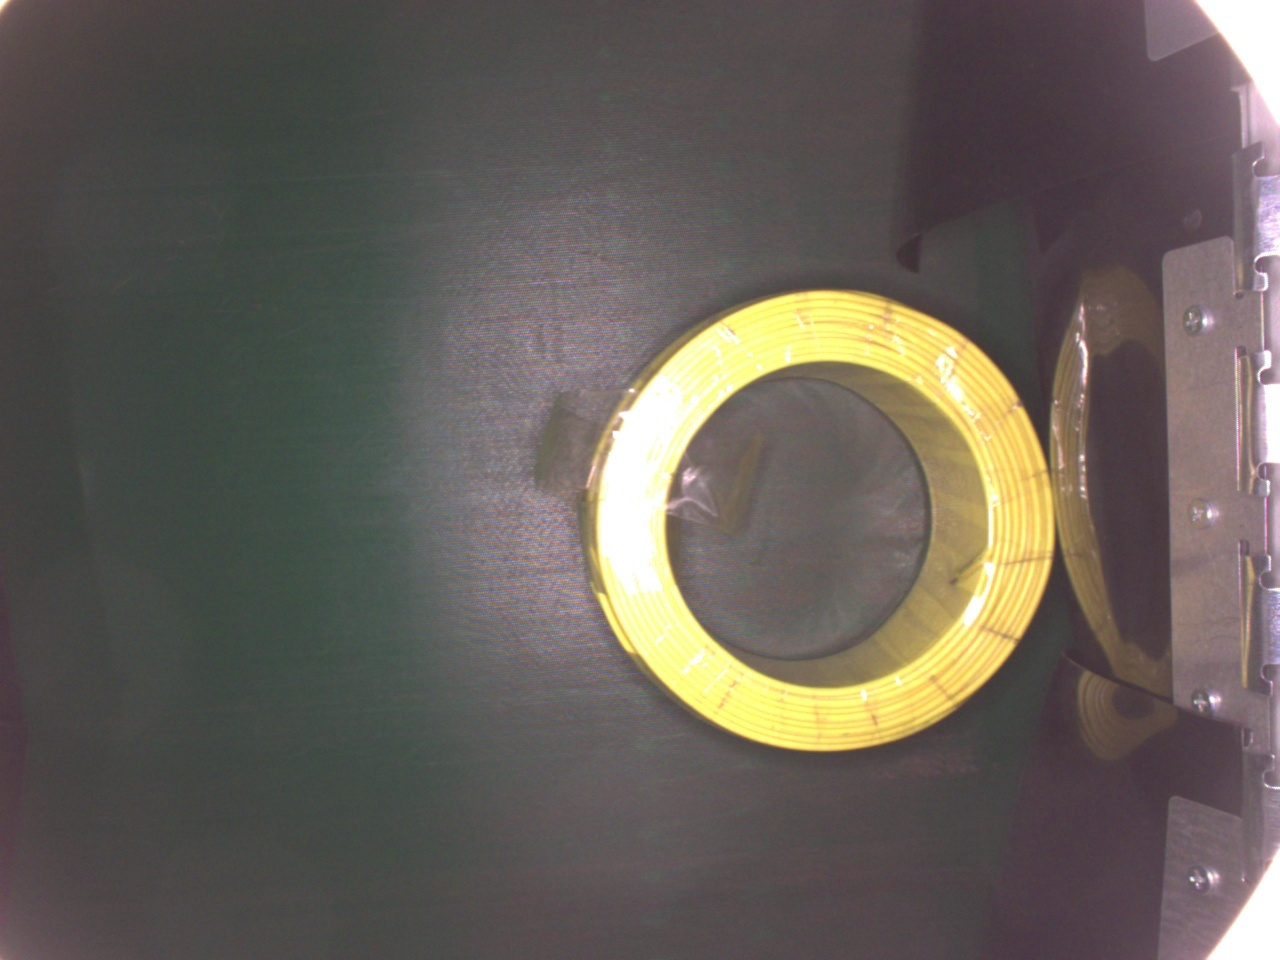yellow: (578, 284, 1057, 754)
